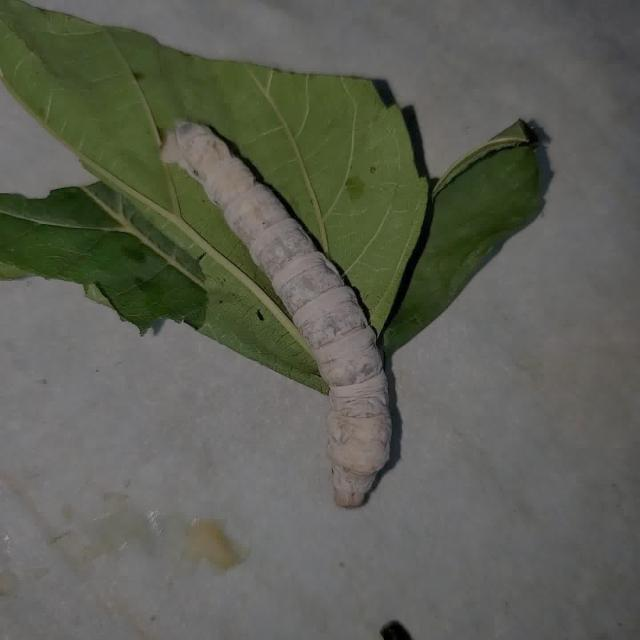Grasserie: (140, 108, 418, 518)
